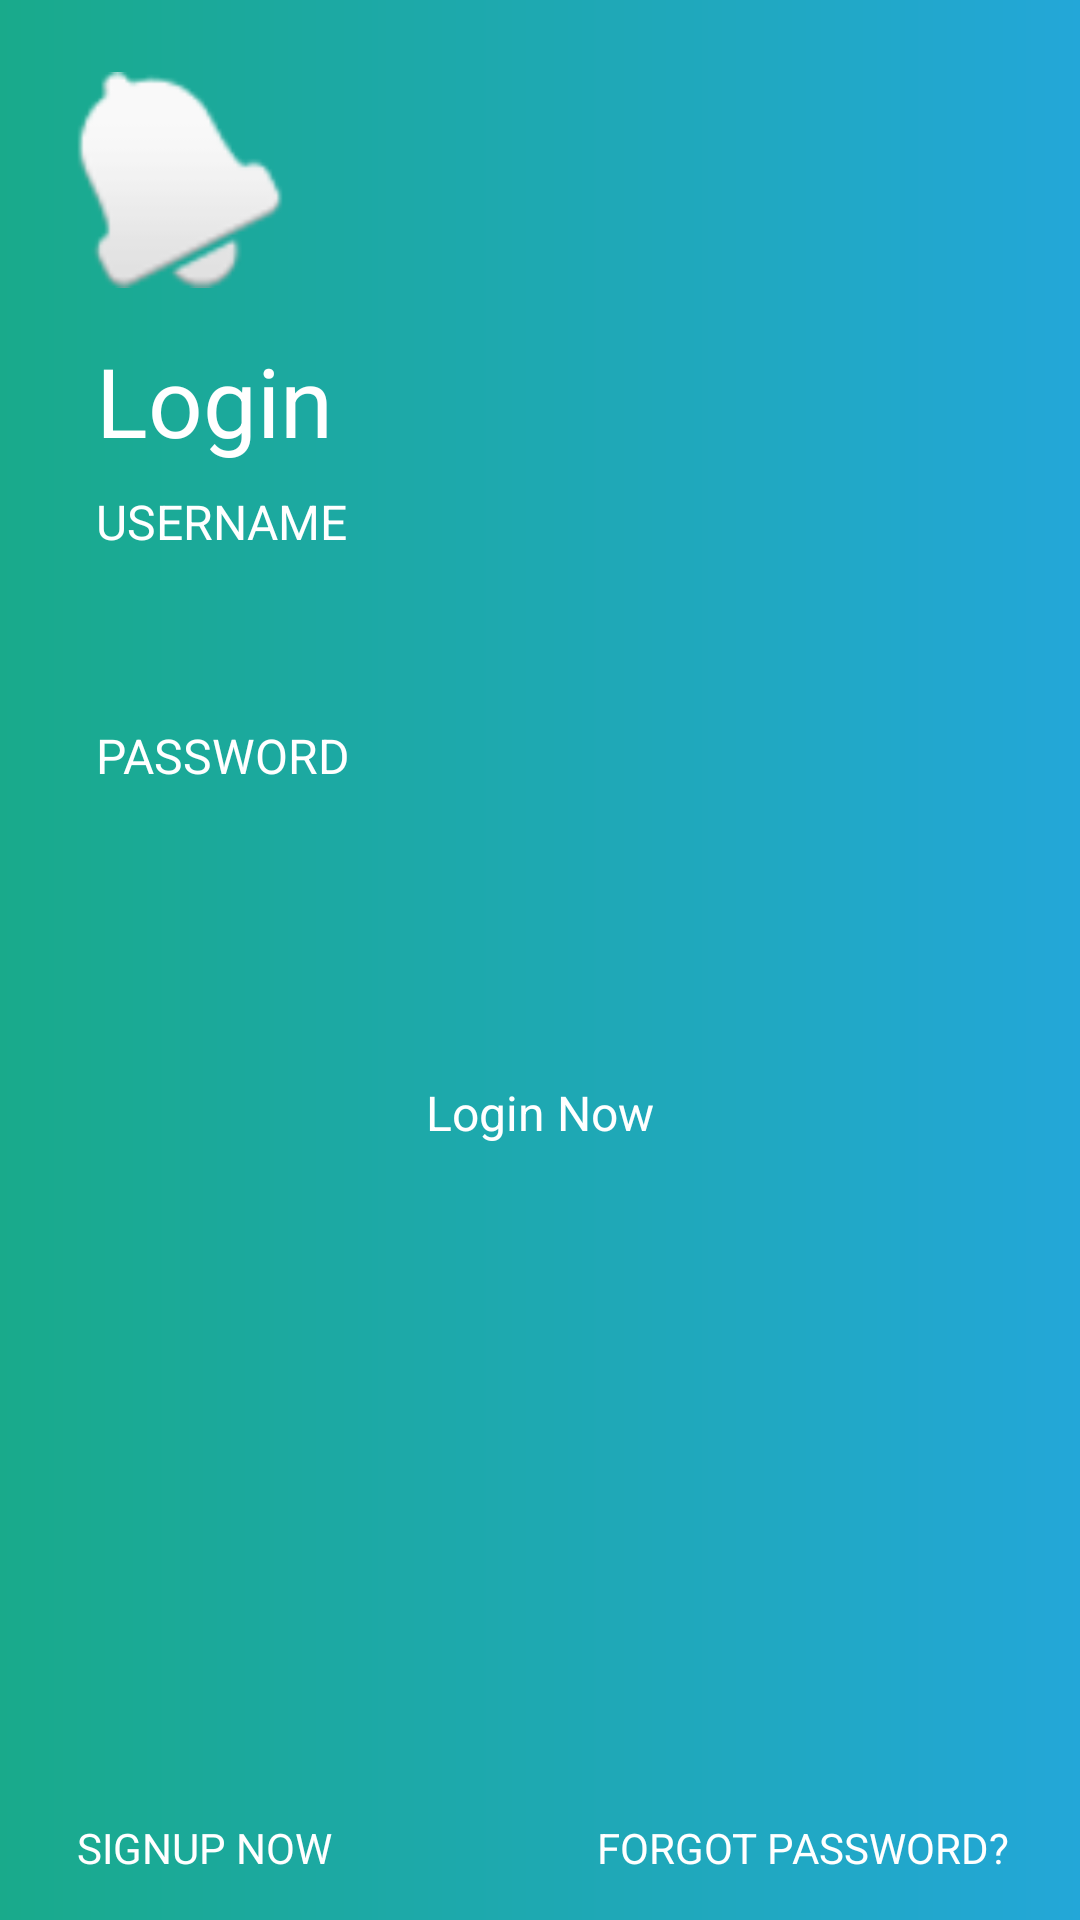

Icons on this 1080px×1920px Android screen, each with the point to tap as (x=x, y=y):
popup reminder: (x=180, y=180)
